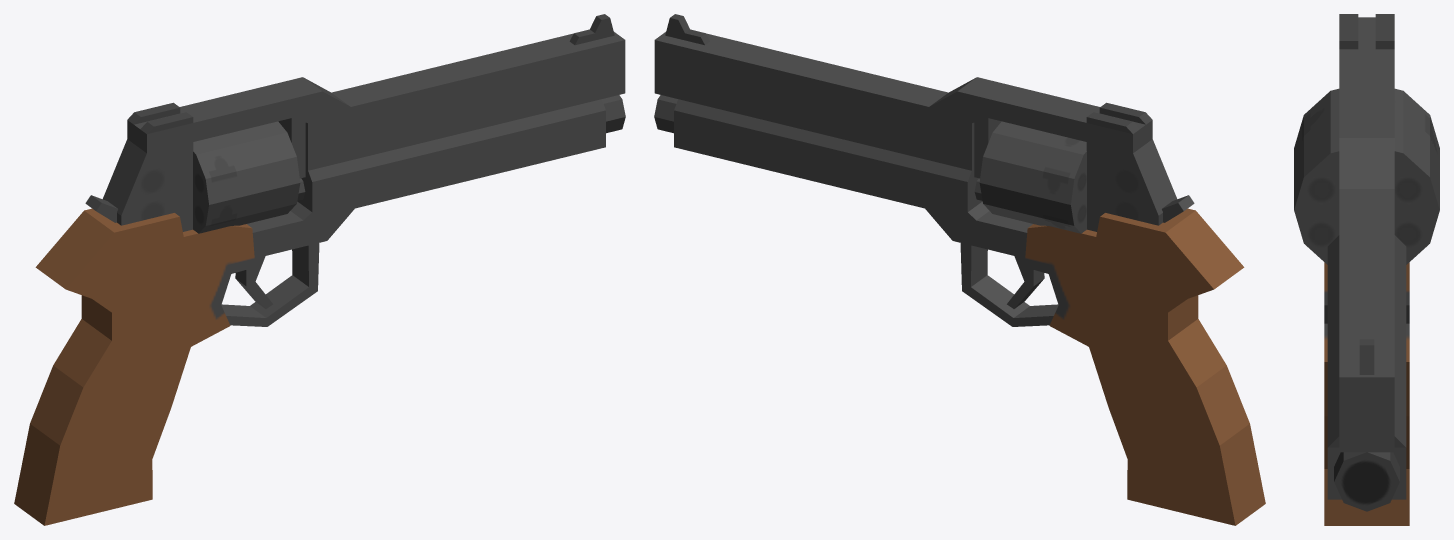
File: Mateba.FBX
3 views of the same model, side by side, from view 1: azimuth 30°, elevation 25°; view 2: azimuth 150°, elevation 25°; view 3: azimuth 270°, elevation 25° (orthographic). The views are drawn at different scales.
Visible parts, largest first — view 1: Mateba; view 2: Mateba; view 3: Mateba.
Part boxes in pixels (box(x1,y1,x2,y2)): Mateba: box(14, 14, 625, 525); Mateba: box(654, 14, 1265, 525); Mateba: box(1294, 14, 1439, 525).
Size of the model in its own units: 28.65 by 17.16 by 4.39.
